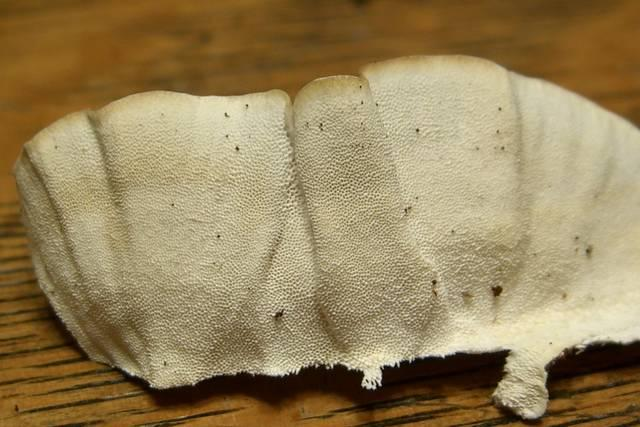poisonous_mushroom: (11, 51, 639, 420)
